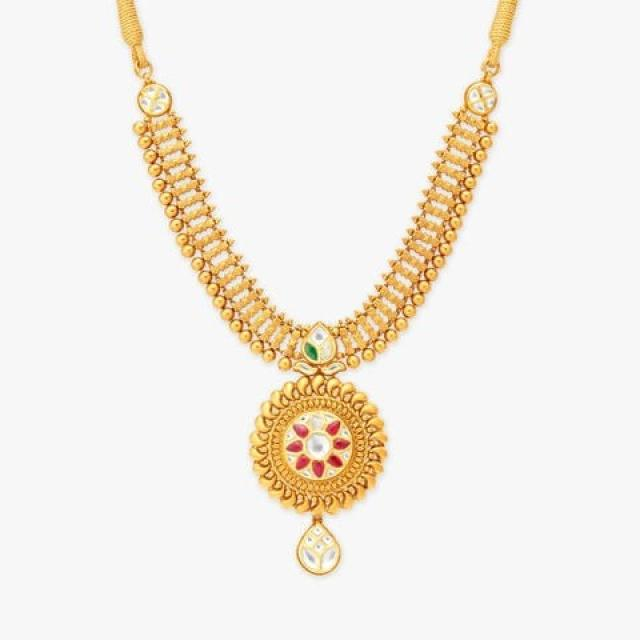missing gem: (320, 340, 333, 361), (313, 412, 324, 430)
